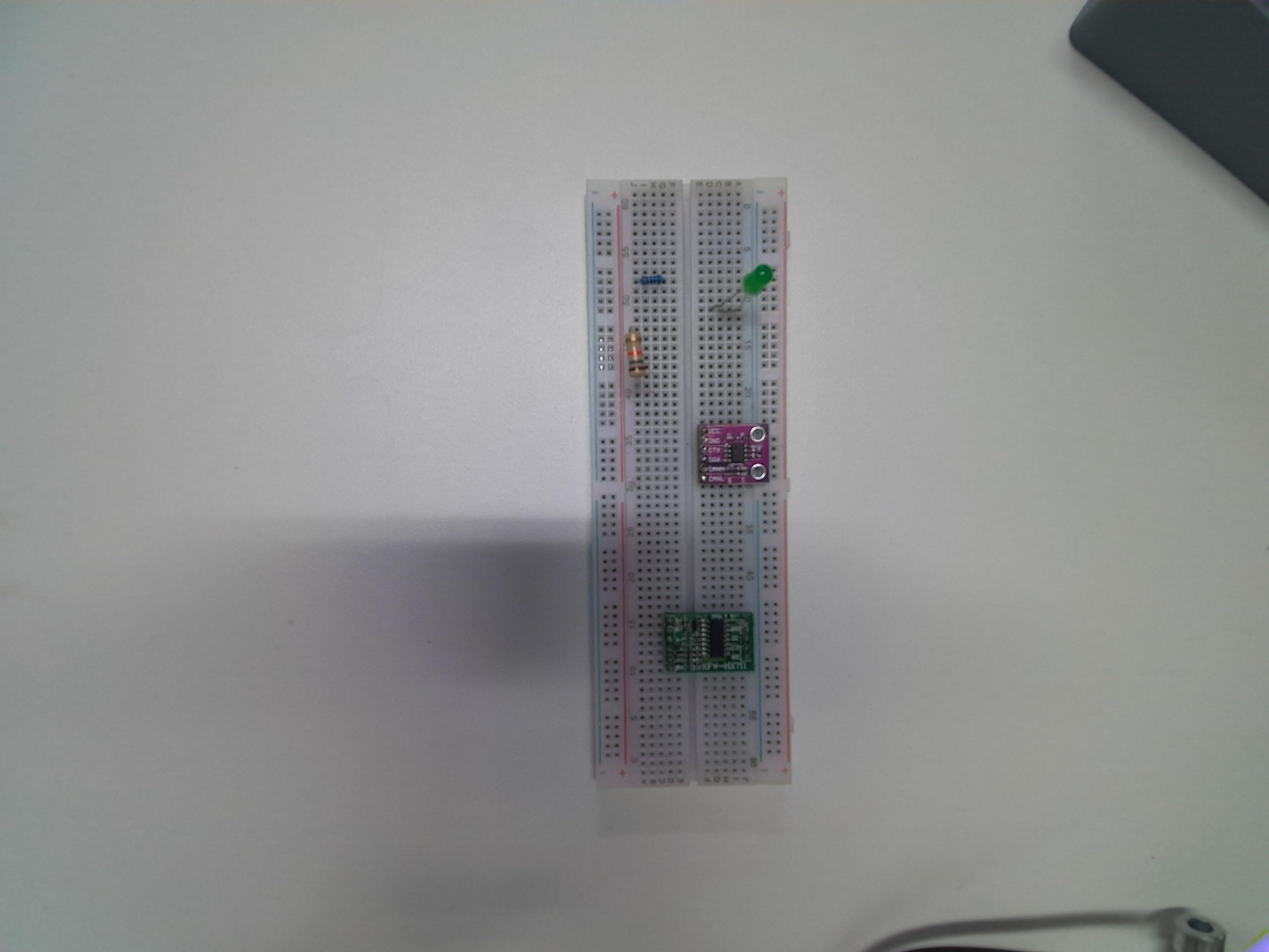base: (582, 173, 795, 795)
green-board: (660, 609, 758, 677)
green-led: (740, 259, 779, 302)
purple-board: (698, 420, 772, 487)
resistor-big: (623, 333, 654, 386)
resistor-small: (638, 270, 666, 293)
